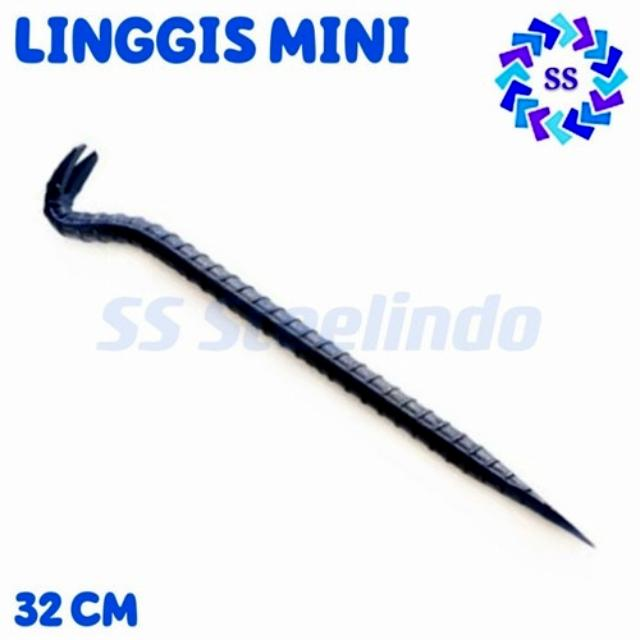crow bar: (46, 148, 606, 549)
